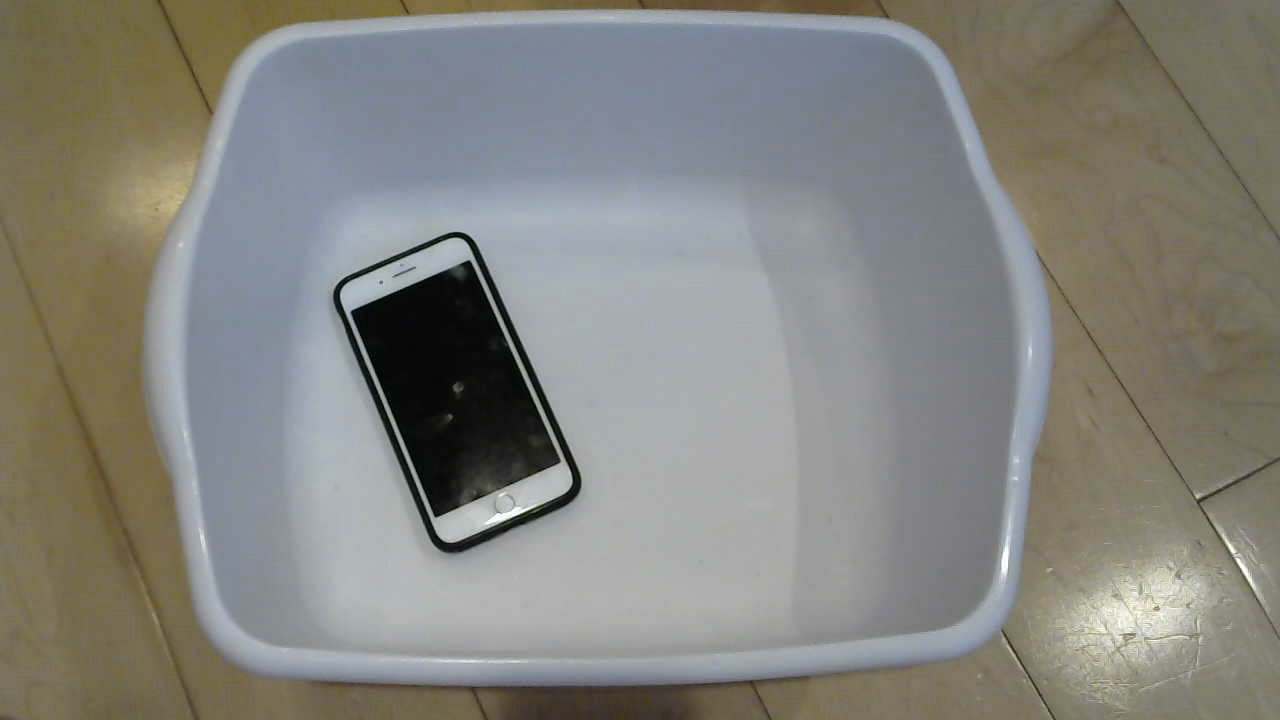phone: (309, 223, 604, 563)
